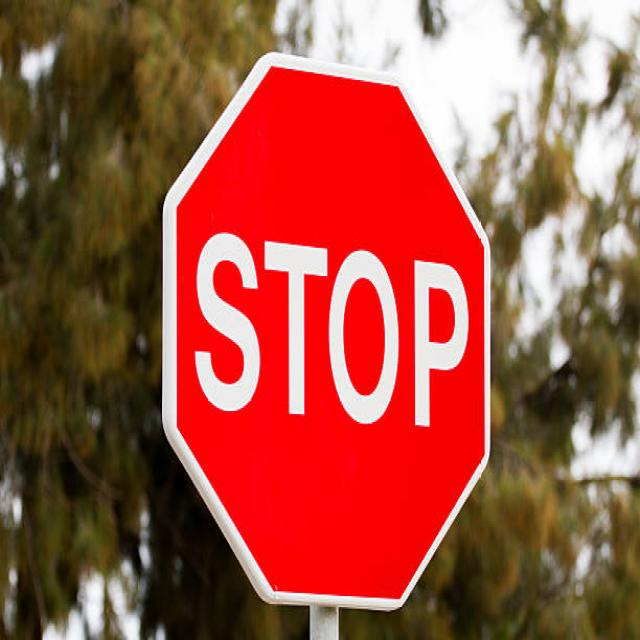stop: (154, 43, 505, 620)
